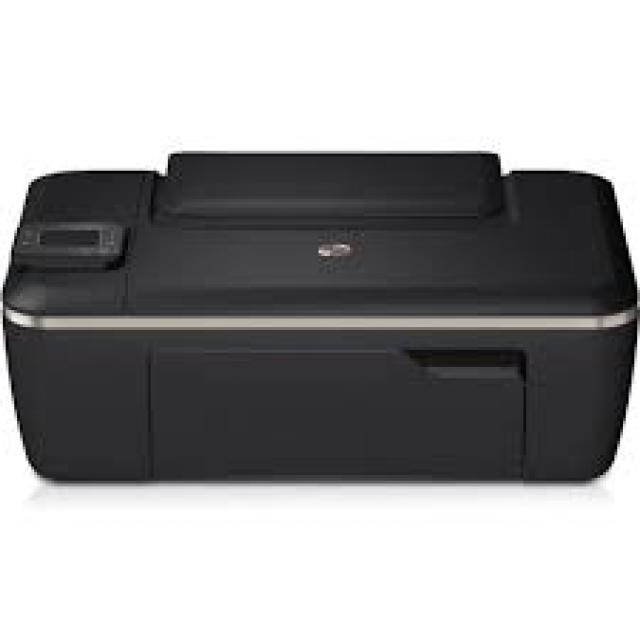printer: (1, 121, 634, 518)
